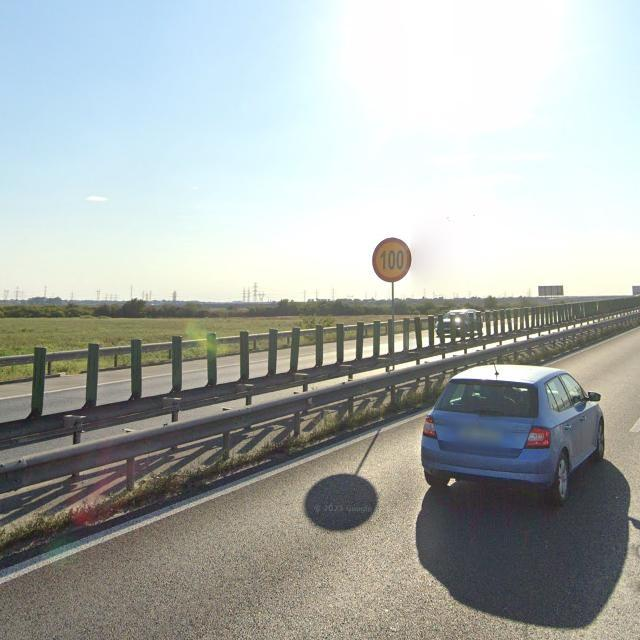forb_speed_over_100: (372, 239, 412, 281)
